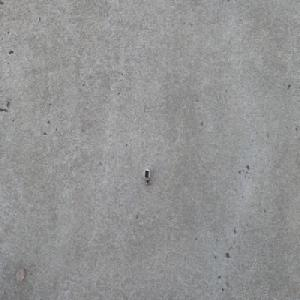MetalPart: (143, 168, 151, 187)
